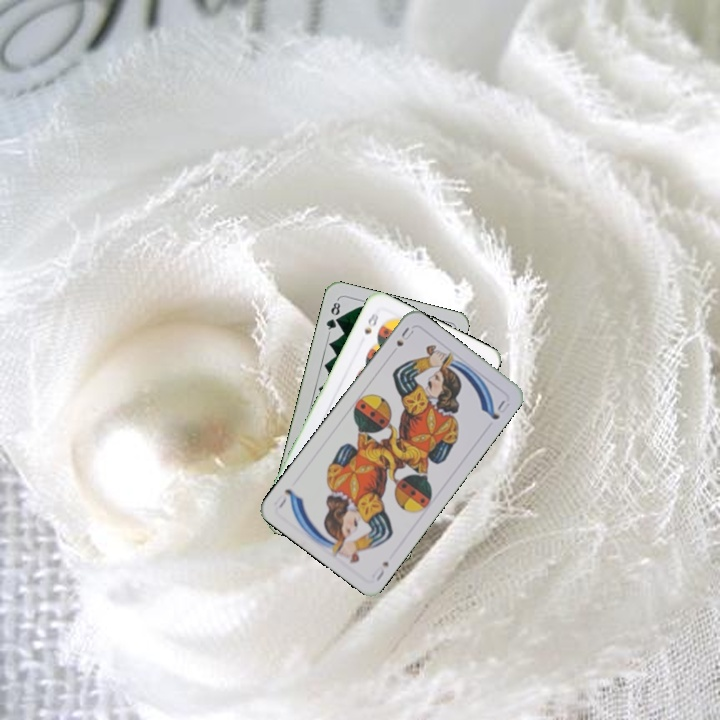G8: (322, 296, 343, 336)
S8: (360, 308, 381, 337)
SU: (386, 323, 416, 358), (367, 557, 391, 584)
